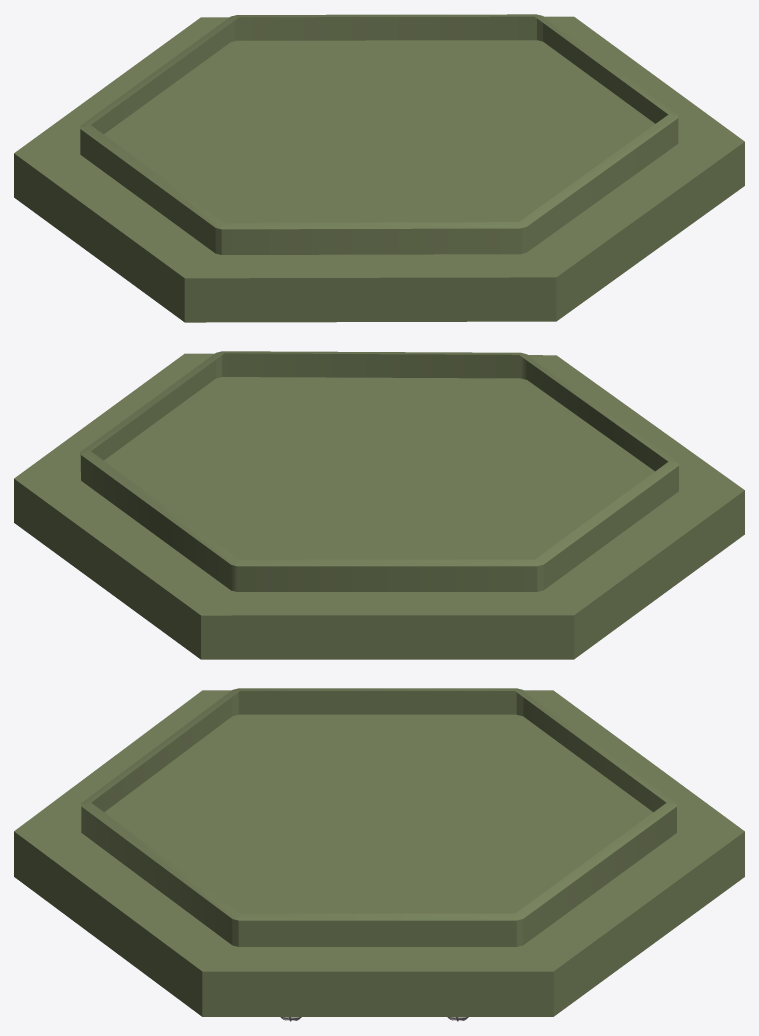
Rendered from Ceiling.fbx.
The picture shows the model from 3 angles, top to bottom: view 1: azimuth 30°, elevation 25°; view 2: azimuth 150°, elevation 25°; view 3: azimuth 270°, elevation 25°; orthographic projection. The views are drawn at different scales.
Parts seen in each view (by area): view 1: Ceilingbase; view 2: Ceilingbase; view 3: Ceilingbase.
Boxes of the visible parts, x1,y1,x2,y2 form: Ceilingbase: (14, 14, 744, 322); Ceilingbase: (14, 351, 744, 659); Ceilingbase: (14, 688, 744, 1016).
Bounding box in the file's own units: 3.57 × 0.6986 × 3.93.
